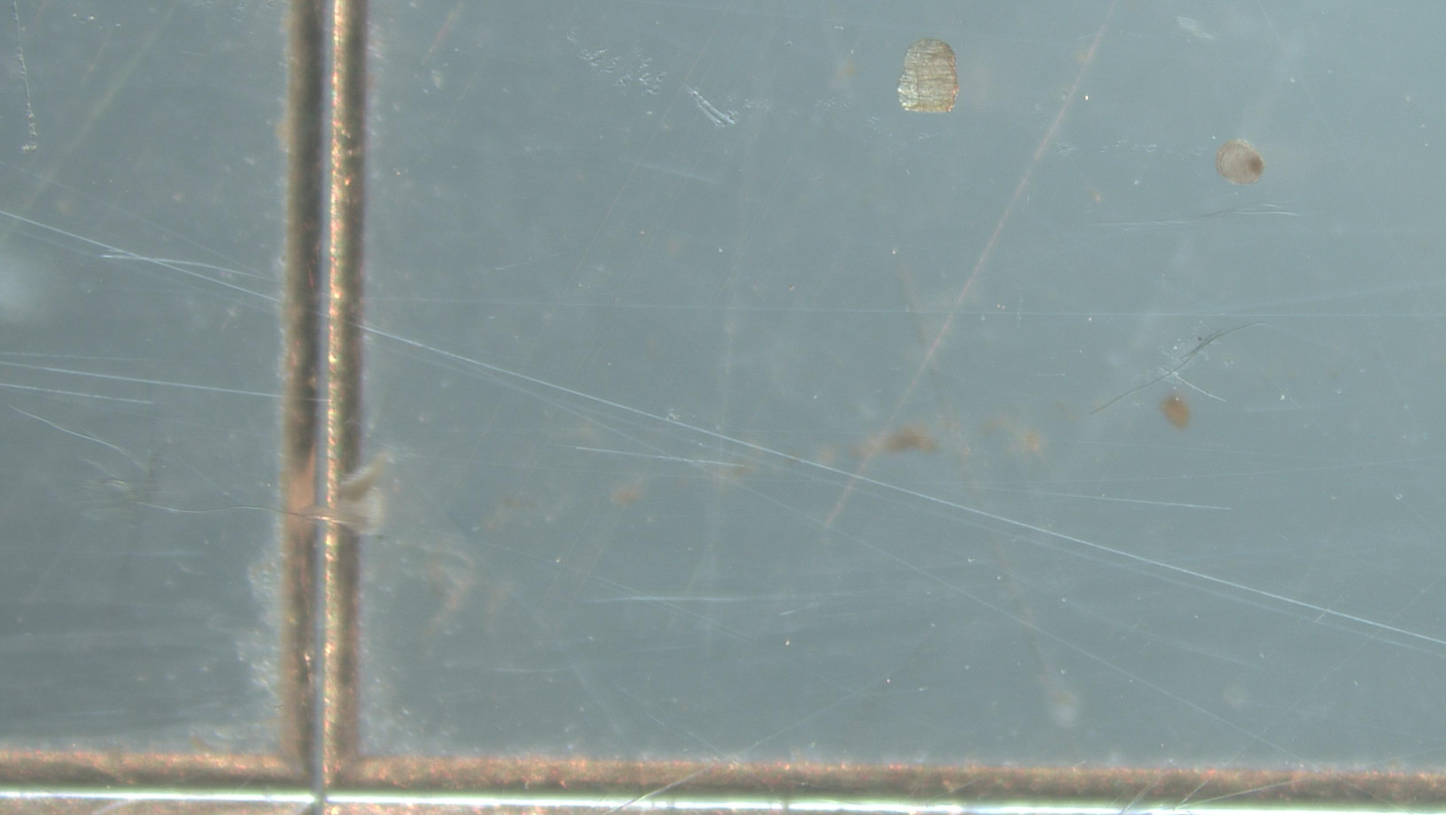live: (1215, 139, 1265, 186)
